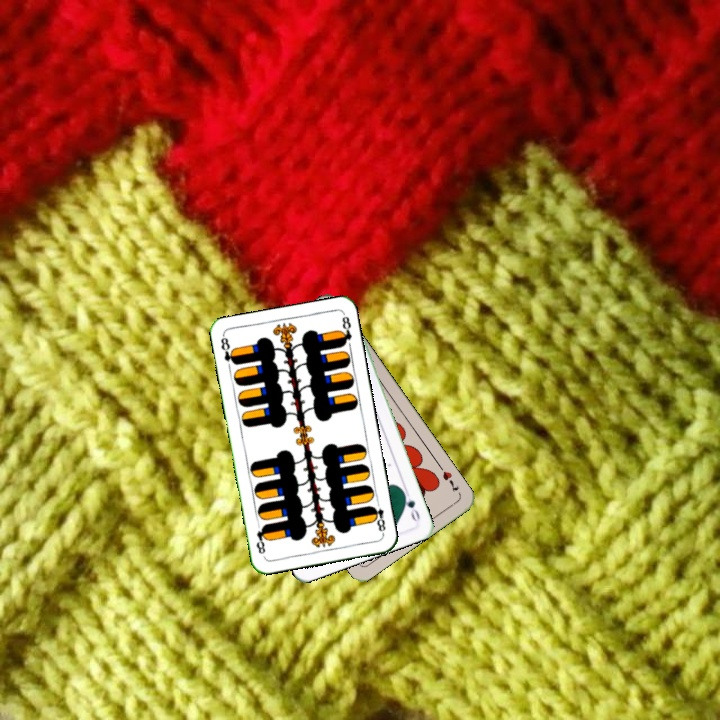E8: (367, 496, 388, 537), (217, 332, 239, 368)
GO: (398, 485, 423, 525)
H7: (434, 461, 461, 494)
